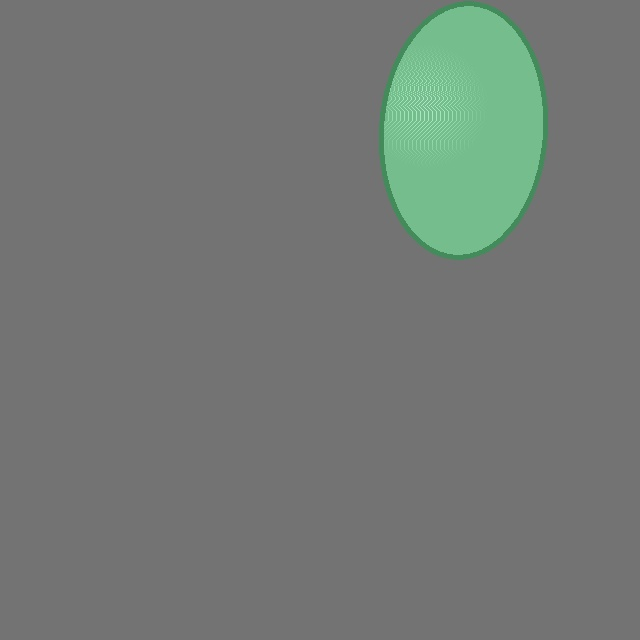lens: (381, 3, 545, 257)
